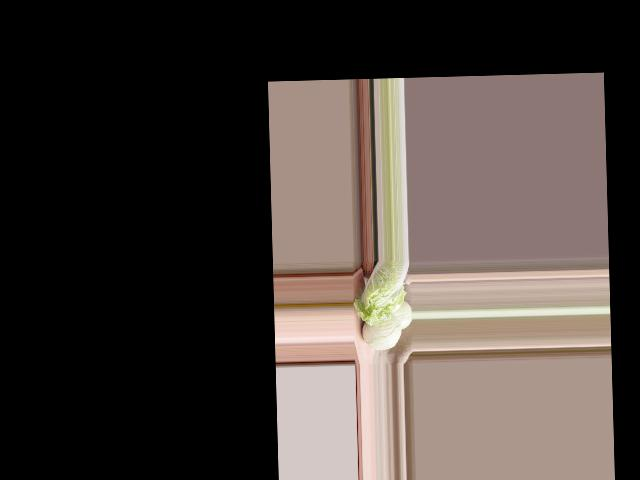lettuce: (351, 260, 408, 326)
